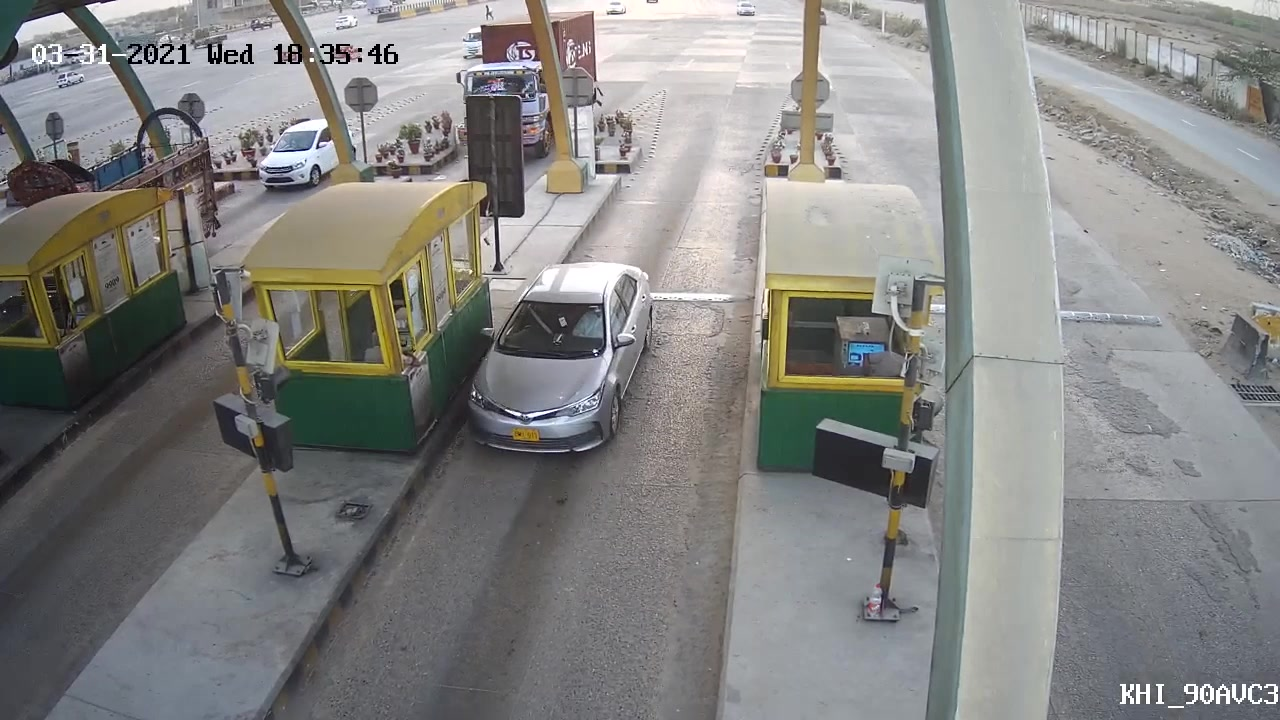F1: (463, 259, 670, 459)
